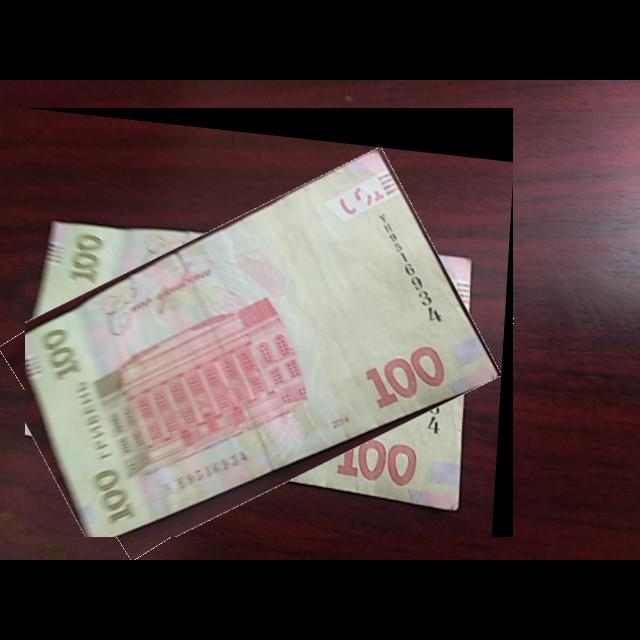100uah: (25, 140, 505, 538)
